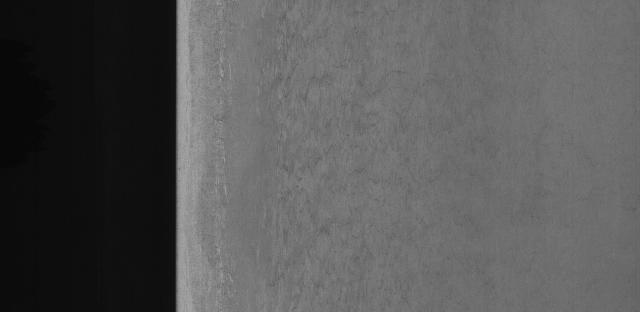silk_spot: (246, 4, 427, 307)
